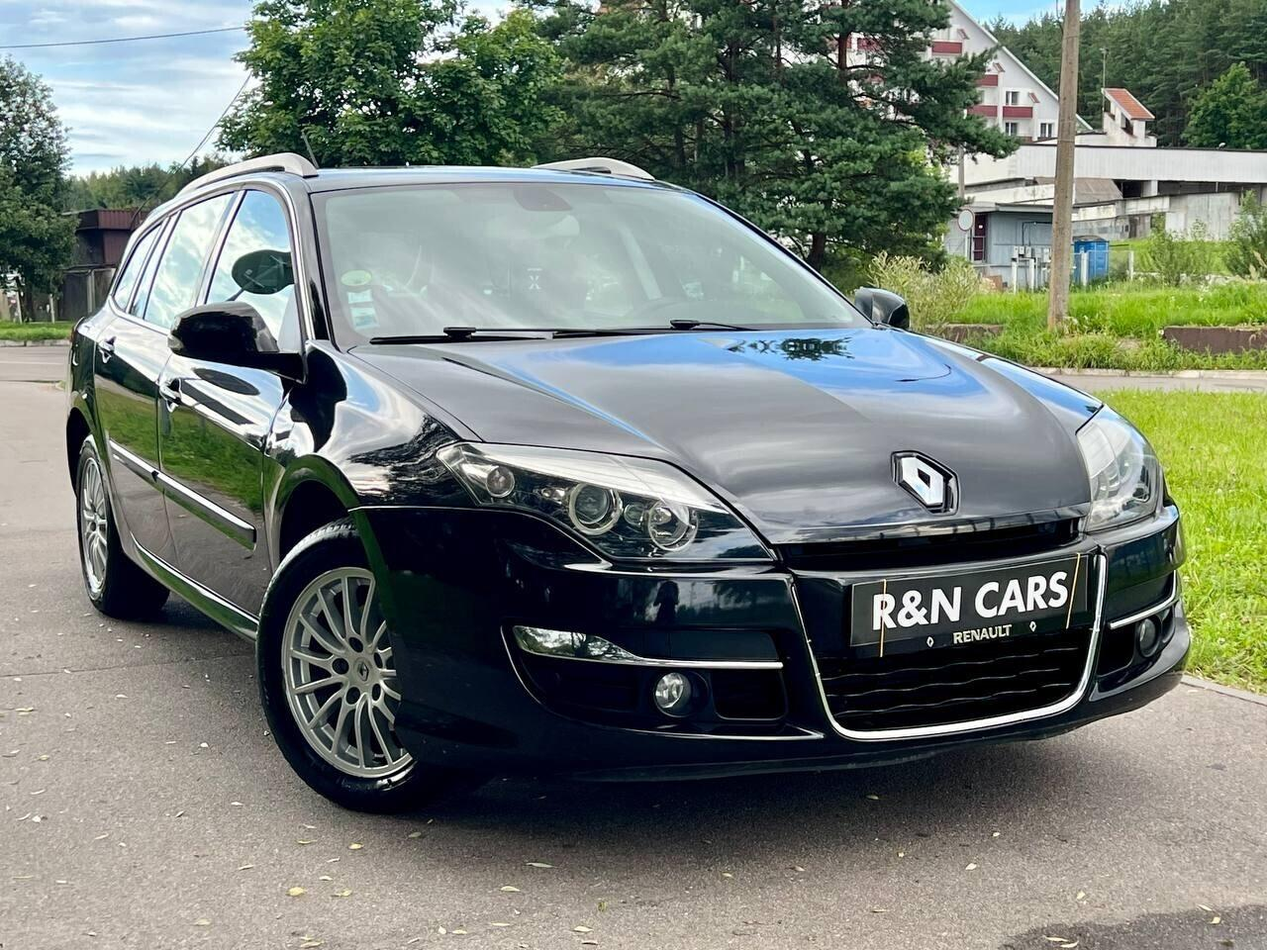Laguna_2010-2015: (63, 155, 1219, 834)
